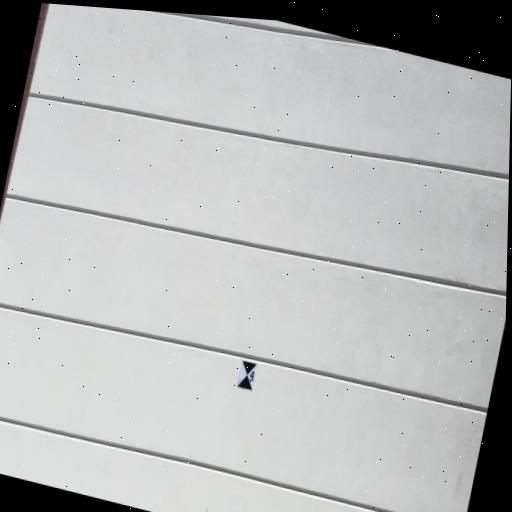target4: (237, 359, 257, 391)
